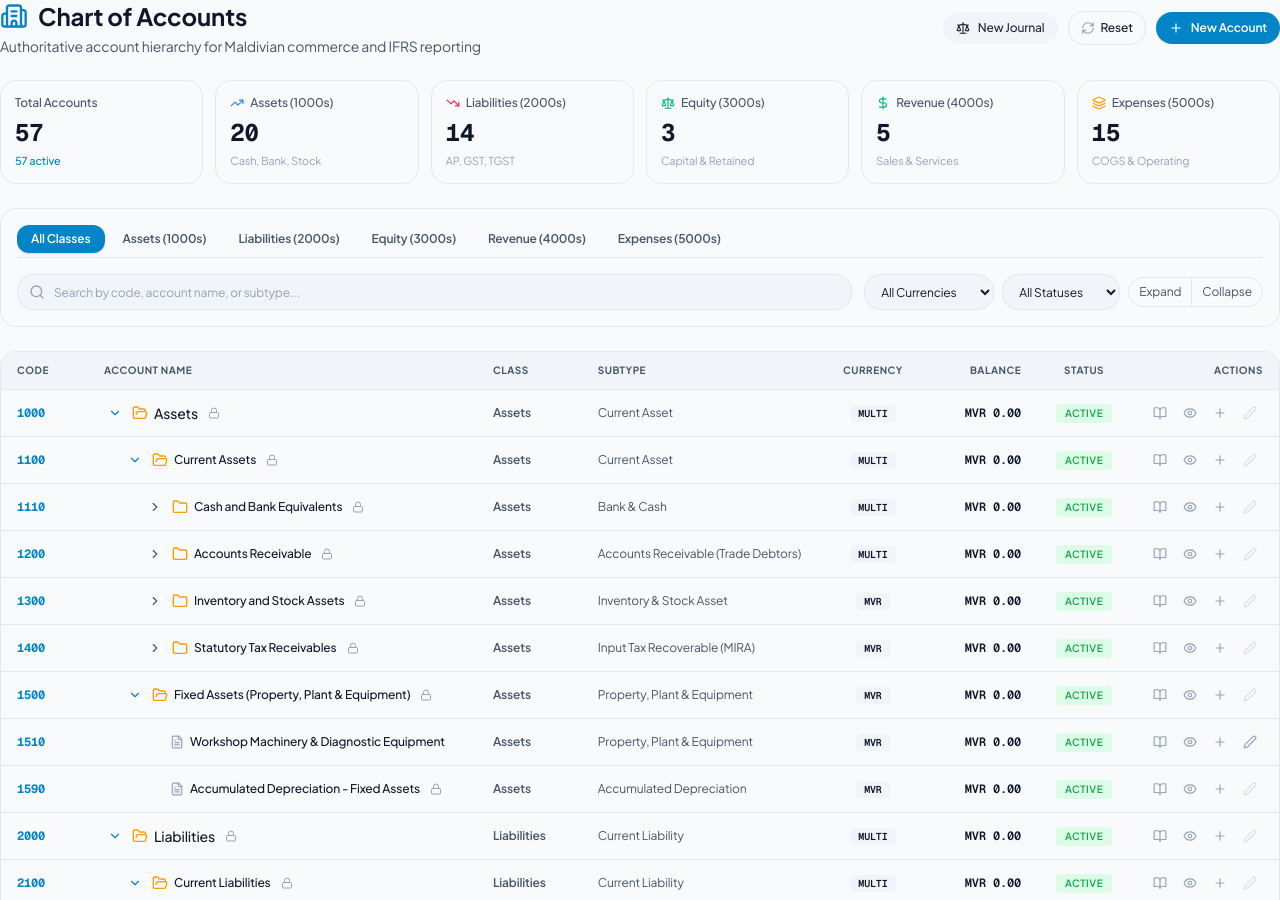
Test case: SERP-291: Live Double-Entry Journal Posting UI & General Ledger Explorer › opens Manual Journal Modal and enforces strict double-entry balance validation
The image size is (1280, 900).
Note: Click "New Journal"
Click the button with test id "new-journal-btn": click(1000, 28) [943,12,1058,44]
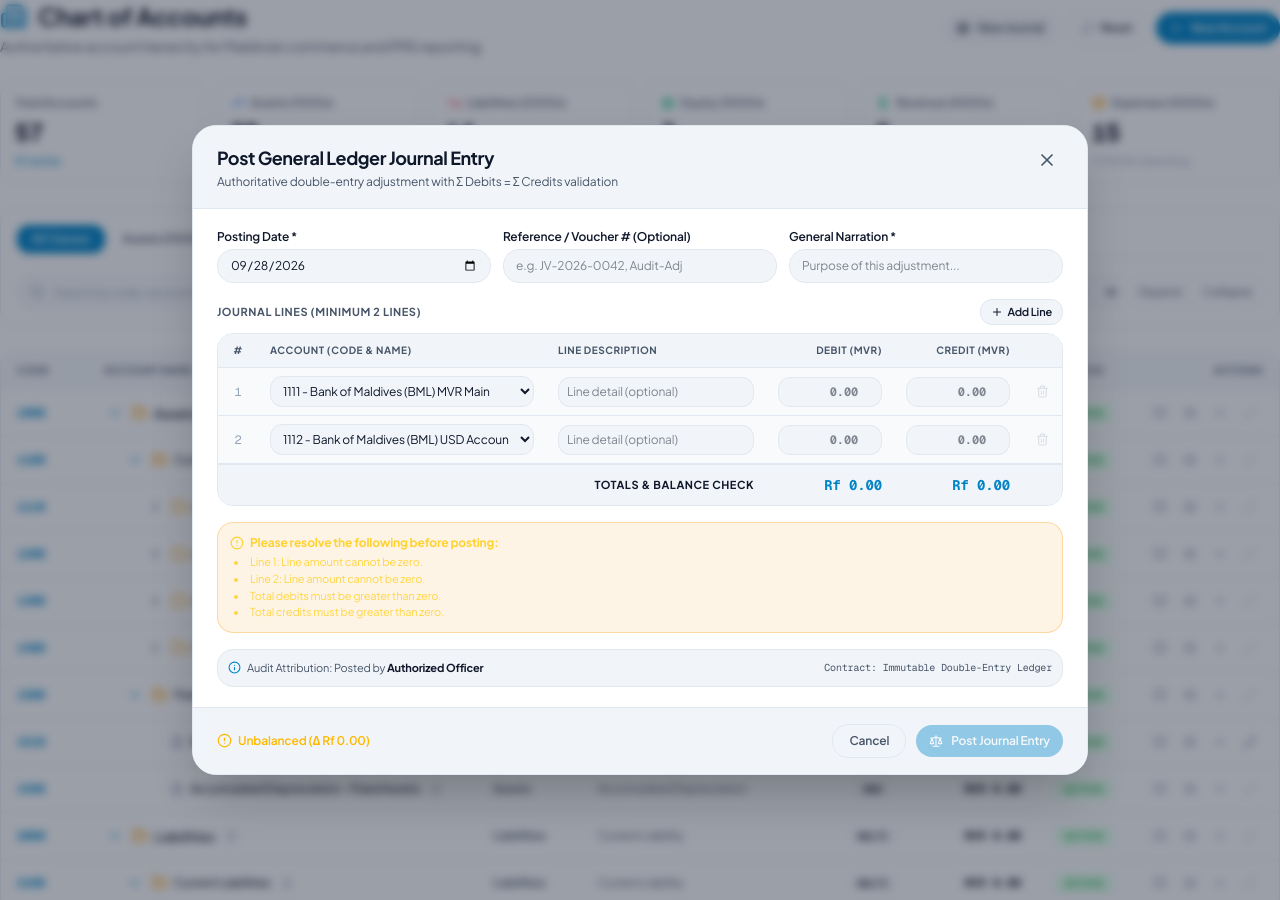
Now the heading "Post General Ledger Journal Entry" is shown, box [217,146,494,169]
Now the text "Authoritative double-entry adjustment" is shown, box [217,174,618,189]
Note: Fill Header
In the field with test id "journal-narration-input": (926, 266) [789,249,1063,283], type "End of Month Audit Adjustment"
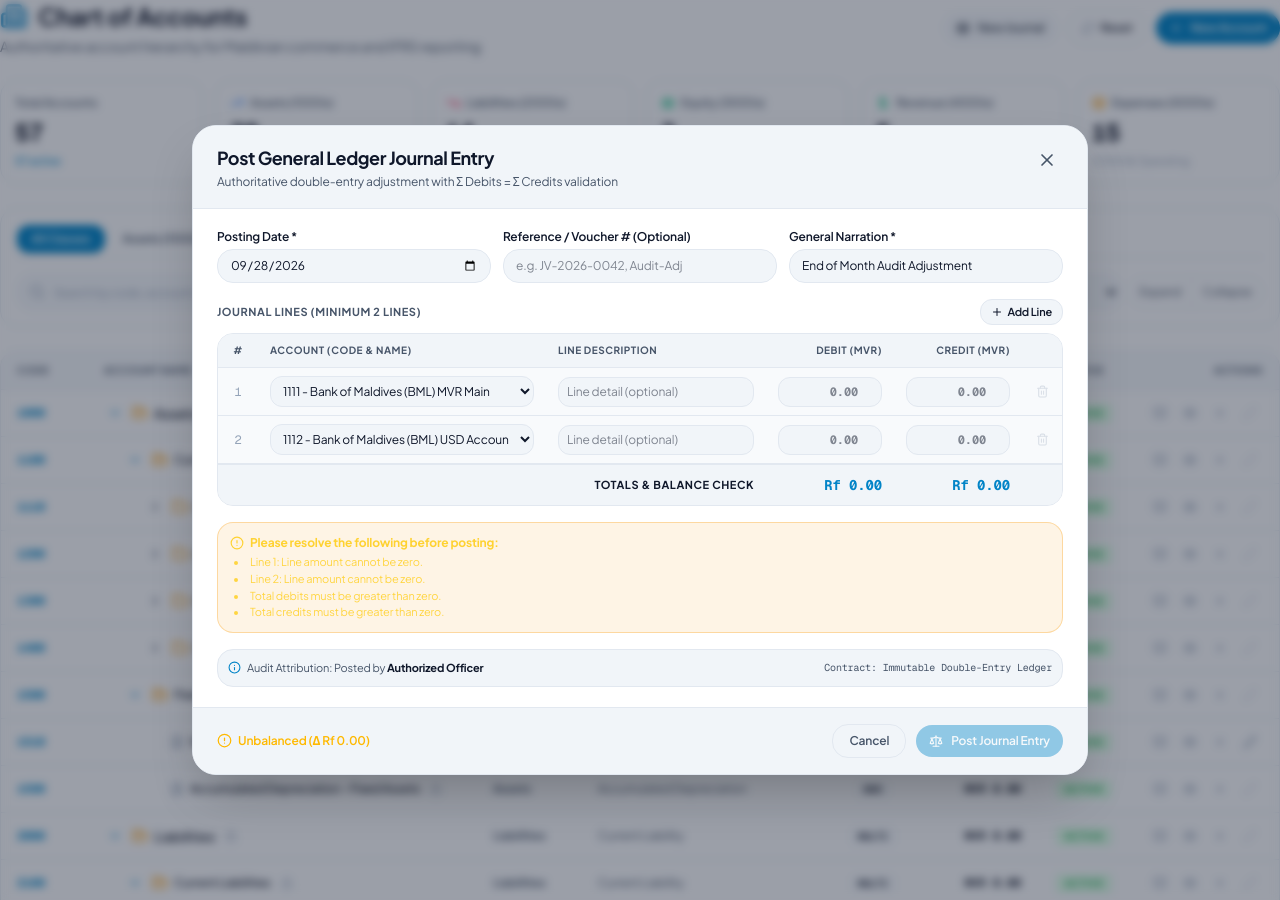
In the number field with test id "line-debit-0": (830, 392) [778,377,882,407], type "5000"
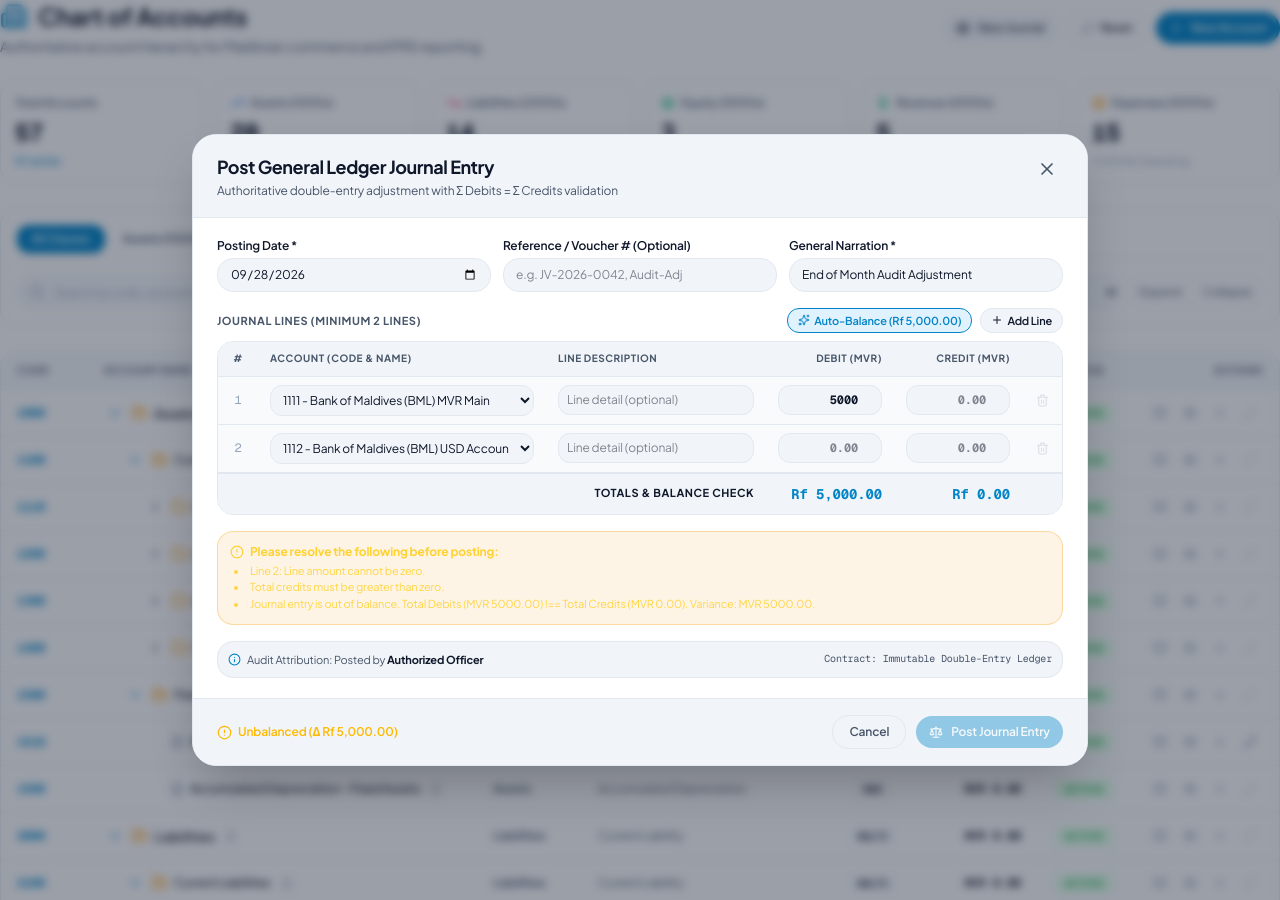
In the number field with test id "line-credit-1": (958, 448) [906,433,1010,463], type "3500"
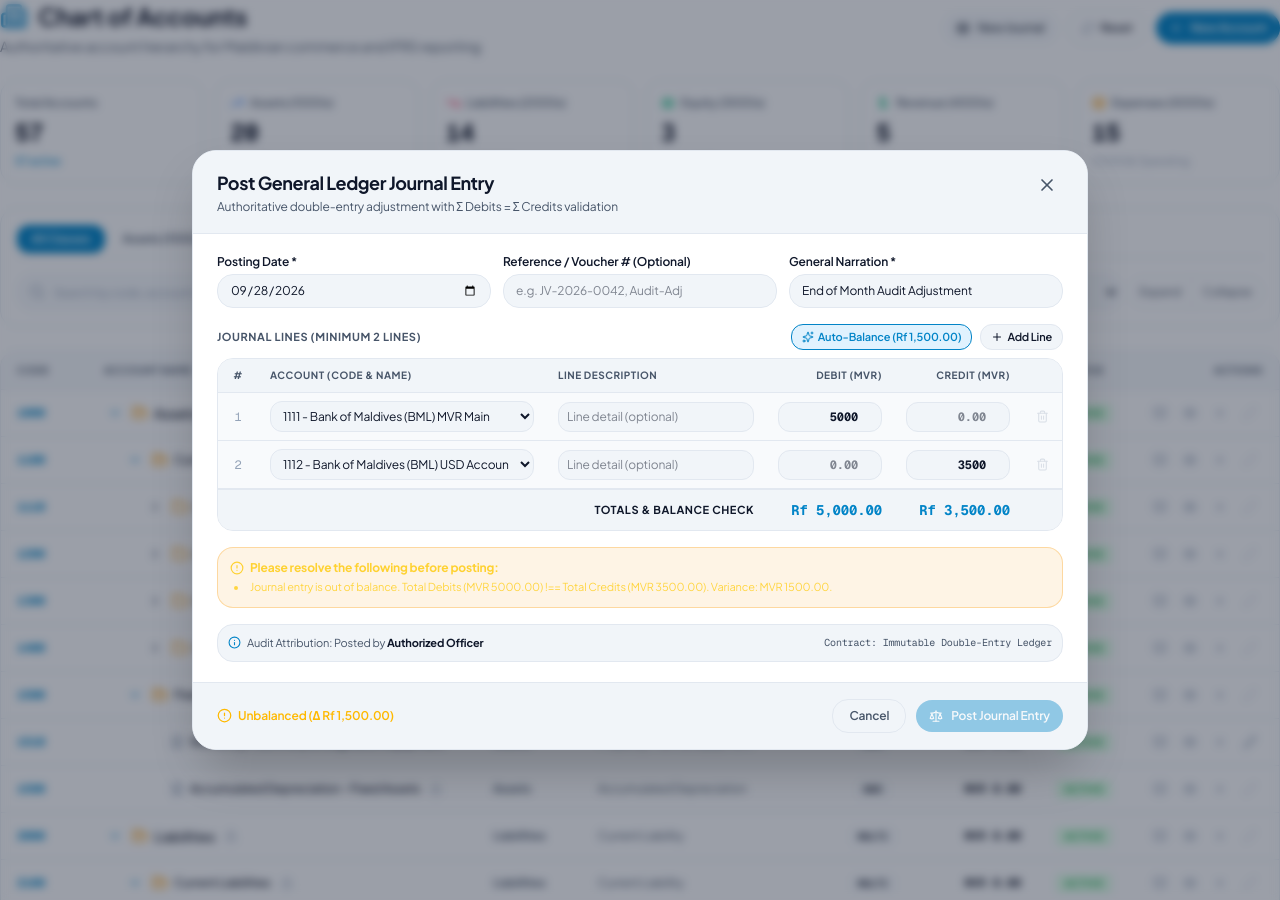
Now the text "Unbalanced (Δ Rf 1,500.00)" is shown, box [238,708,394,724]
Now the text "Please resolve the following before posting:" is shown, box [250,560,499,576]
Now the button with test id "post-journal-btn" is disabled, box [916,700,1063,732]
Note: Click Auto-Balance Helper button
Click the button with test id "auto-balance-btn": click(882, 337) [791,324,972,350]
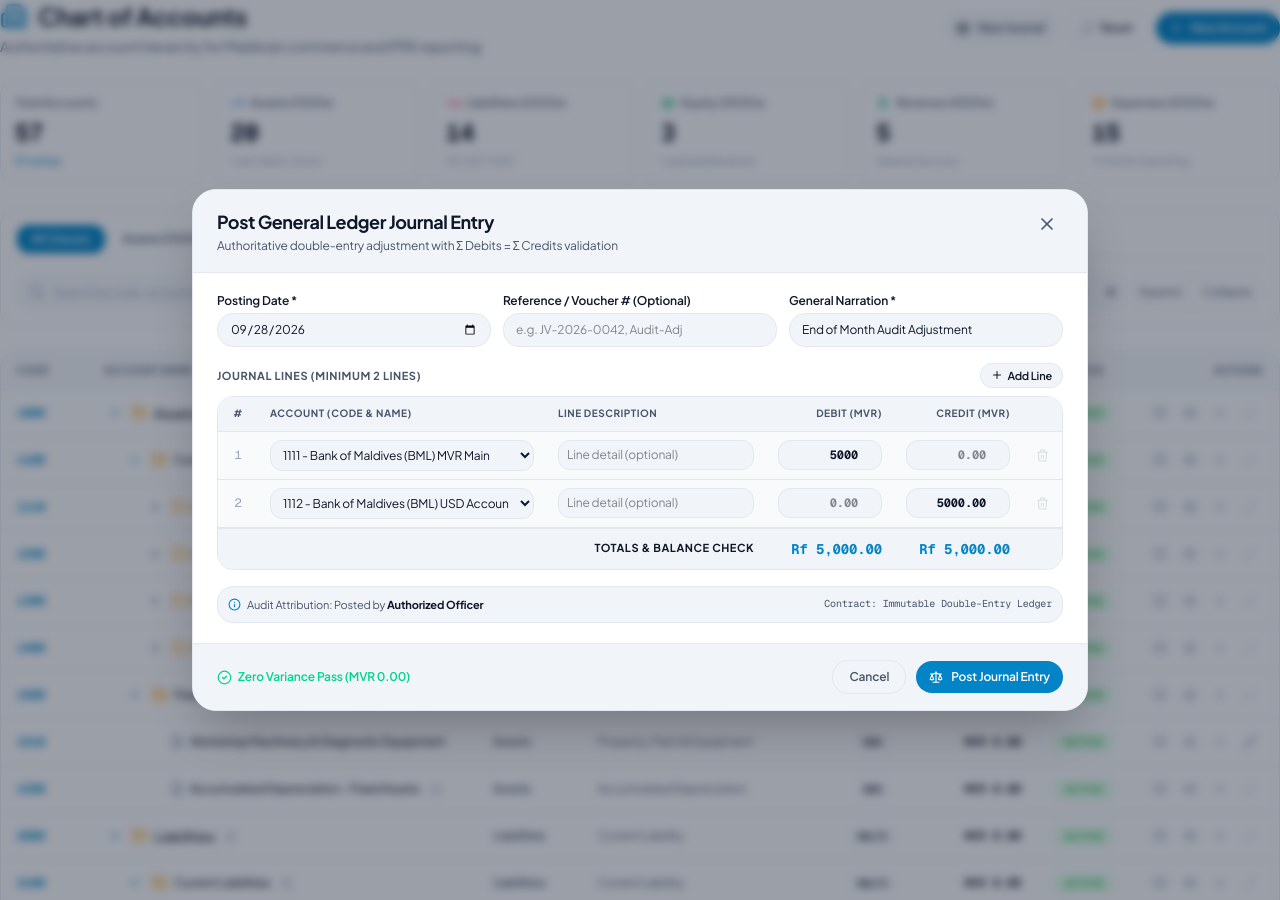
Now the text "Zero Variance Pass (MVR 0.00)" is shown, box [238,669,410,685]
Now the button with test id "post-journal-btn" is enabled
Note: Submit the Journal
Click the button with test id "post-journal-btn": click(990, 677) [916,661,1063,693]
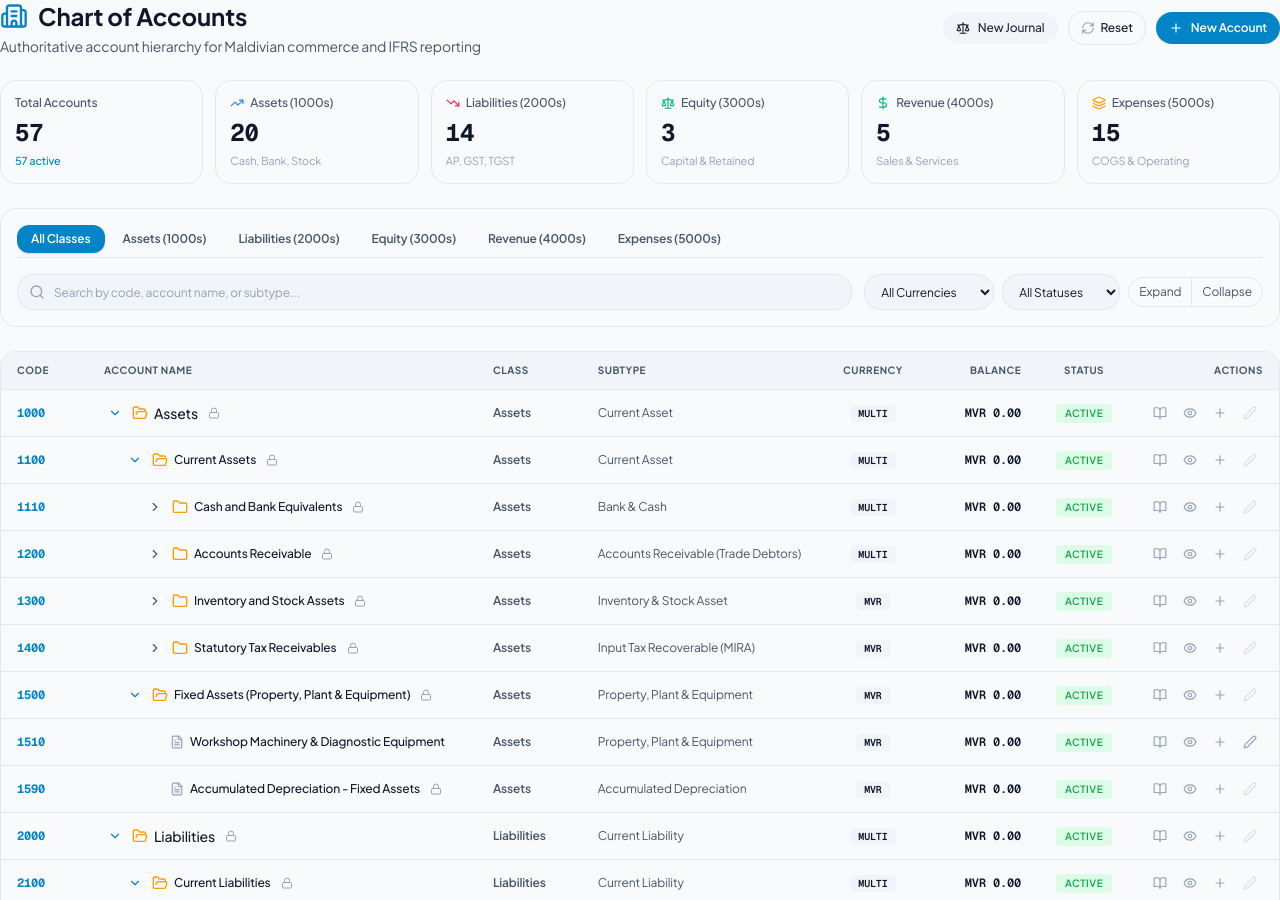
Now the heading "Post General Ledger Journal Entry" is gone
